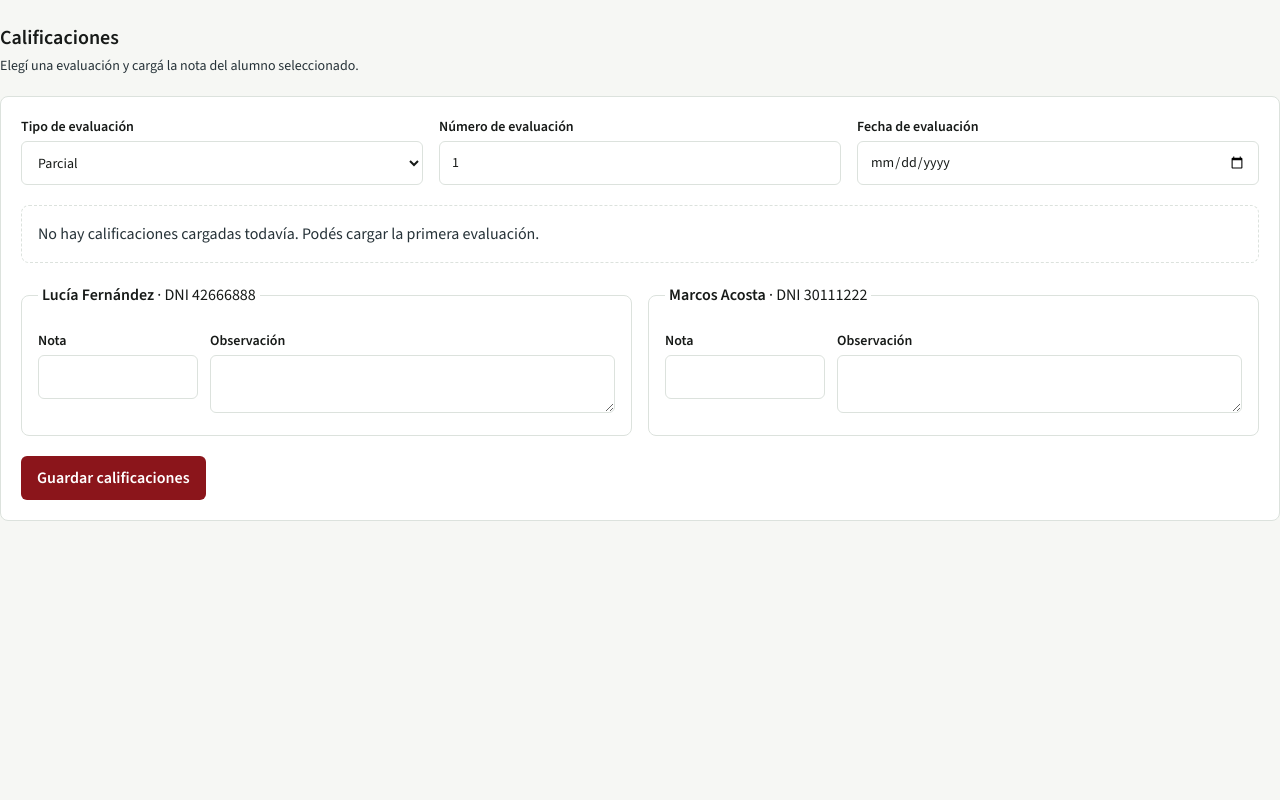
Test: GradesGrid › cancels a number change without losing a pending note, then discards it when confirmed
Type "7" into the number field labelled "Nota" below "Lucía Fernández". click: {"x": 118, "y": 377}
box: [38, 355, 198, 399]
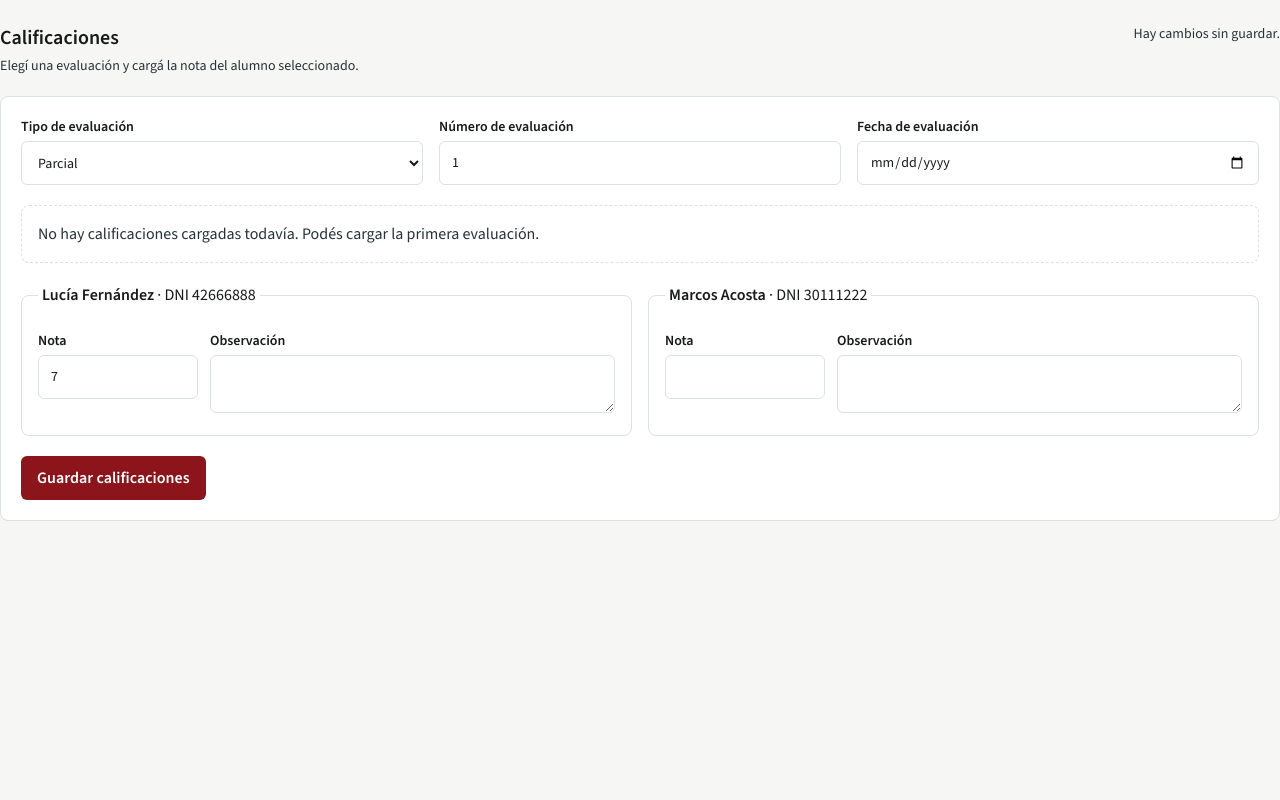
Replace the text in the number field labelled "Número de evaluación" with "2". click: {"x": 640, "y": 163}
box: [439, 141, 841, 185]
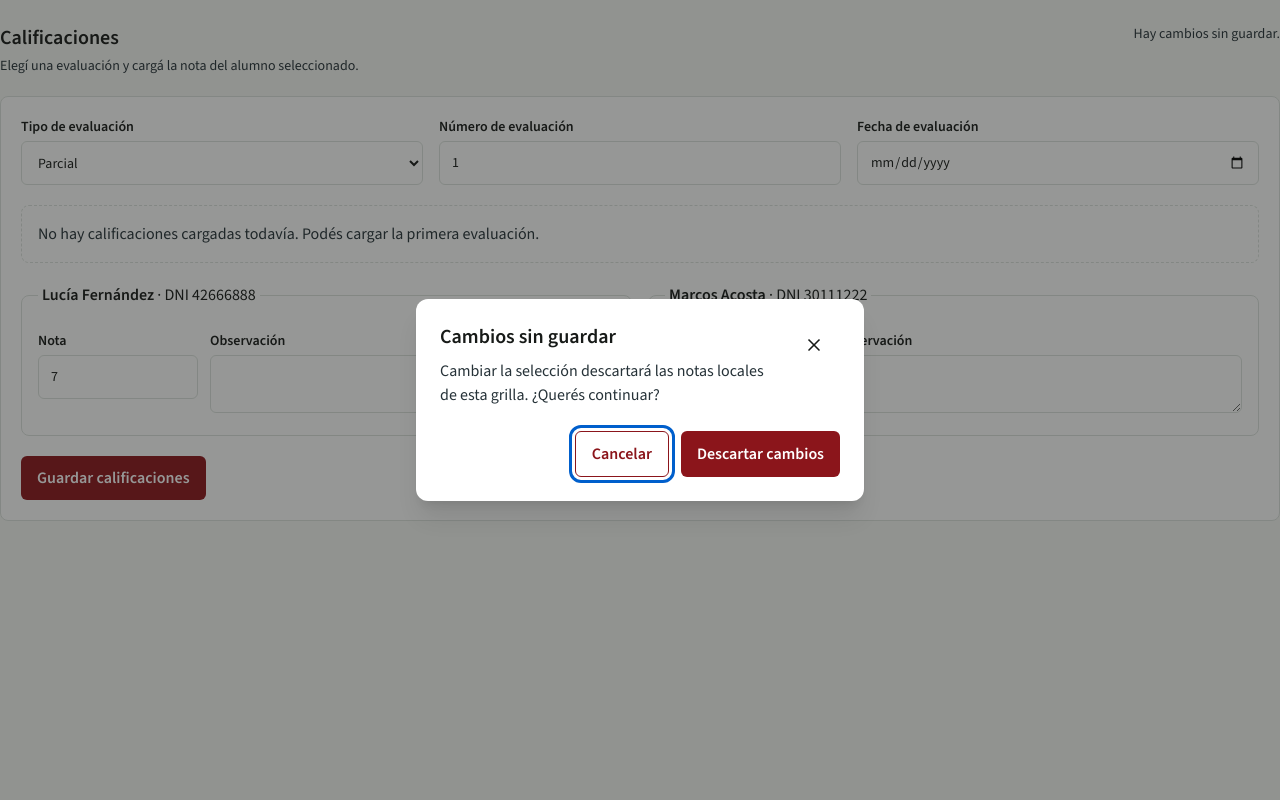
Result: the dialog "Cambios sin guardar" is shown at [416, 299, 864, 501]
Click the button "Cancelar". click: {"x": 622, "y": 454}
box: [575, 431, 669, 477]
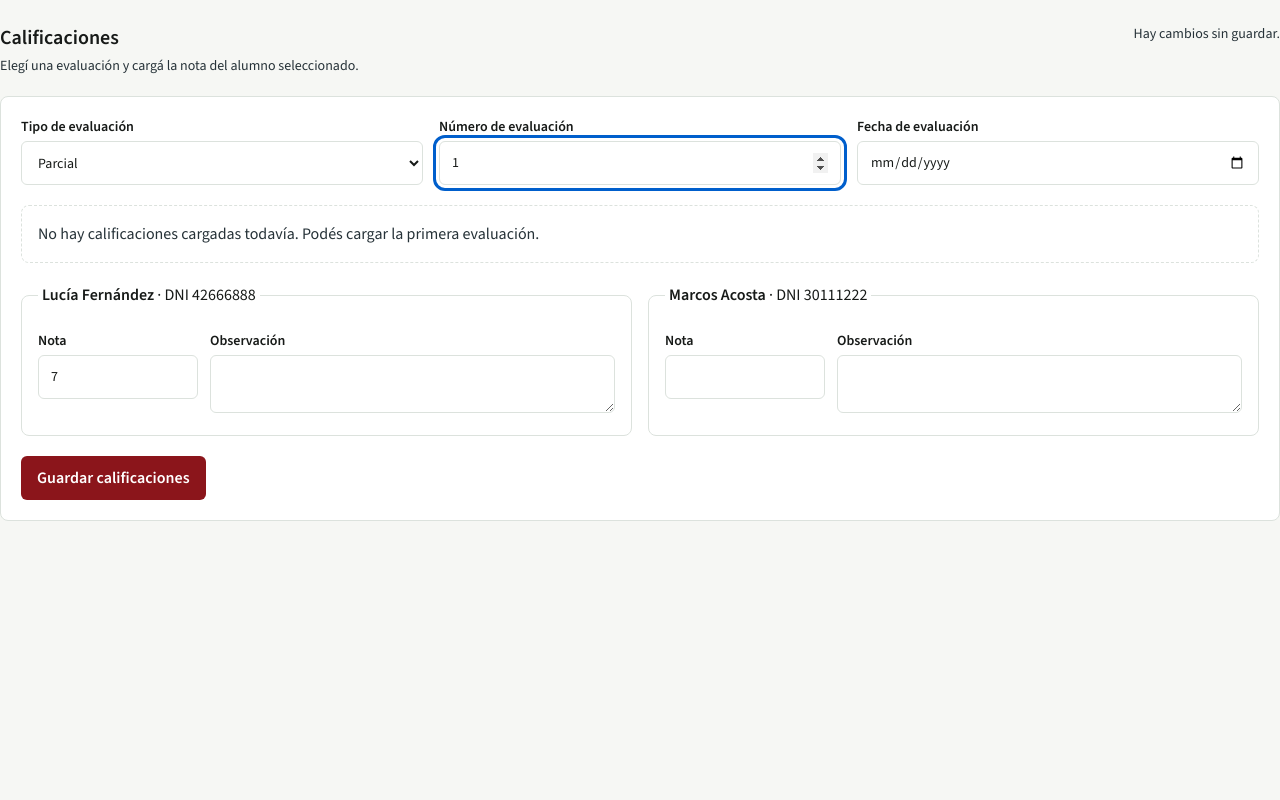
Replace the text in the number field labelled "Número de evaluación" with "2". click: {"x": 640, "y": 163}
box: [439, 141, 841, 185]
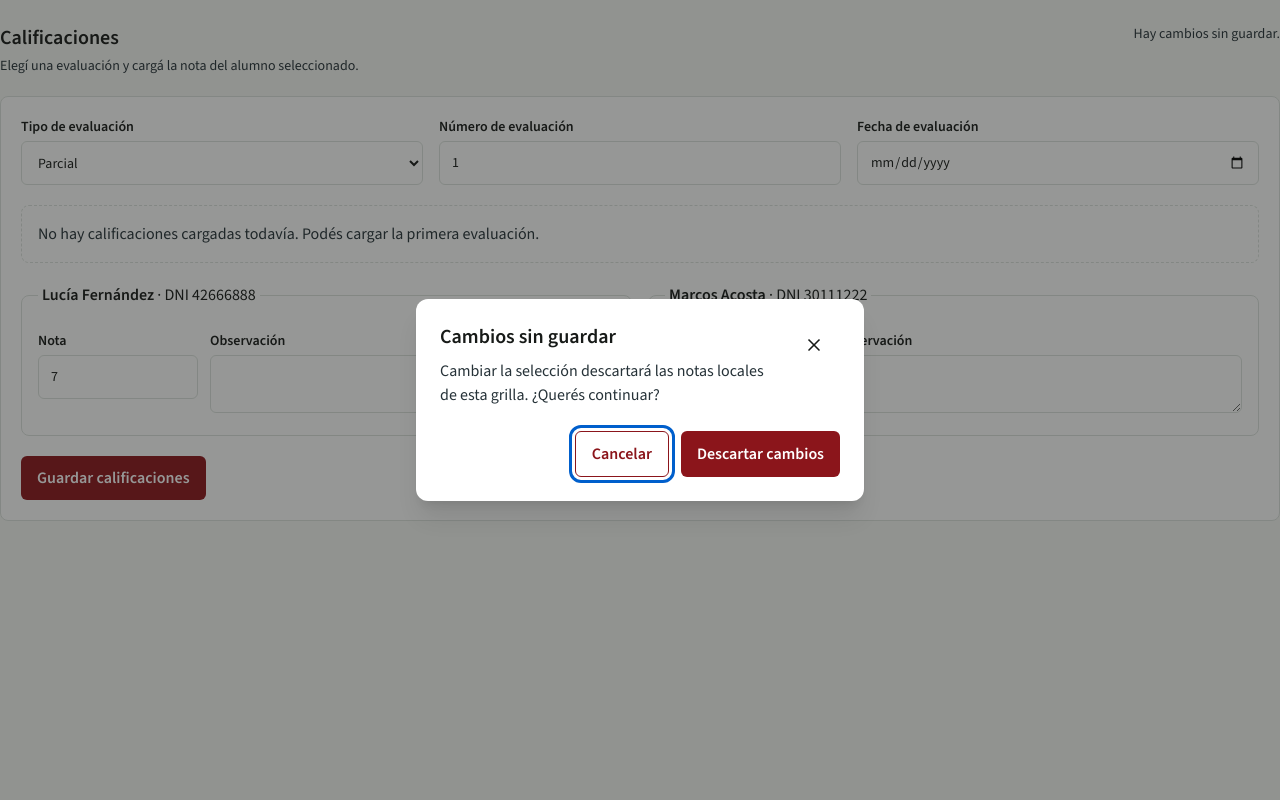
Click the button "Descartar cambios". click: {"x": 760, "y": 454}
box: [681, 431, 840, 477]
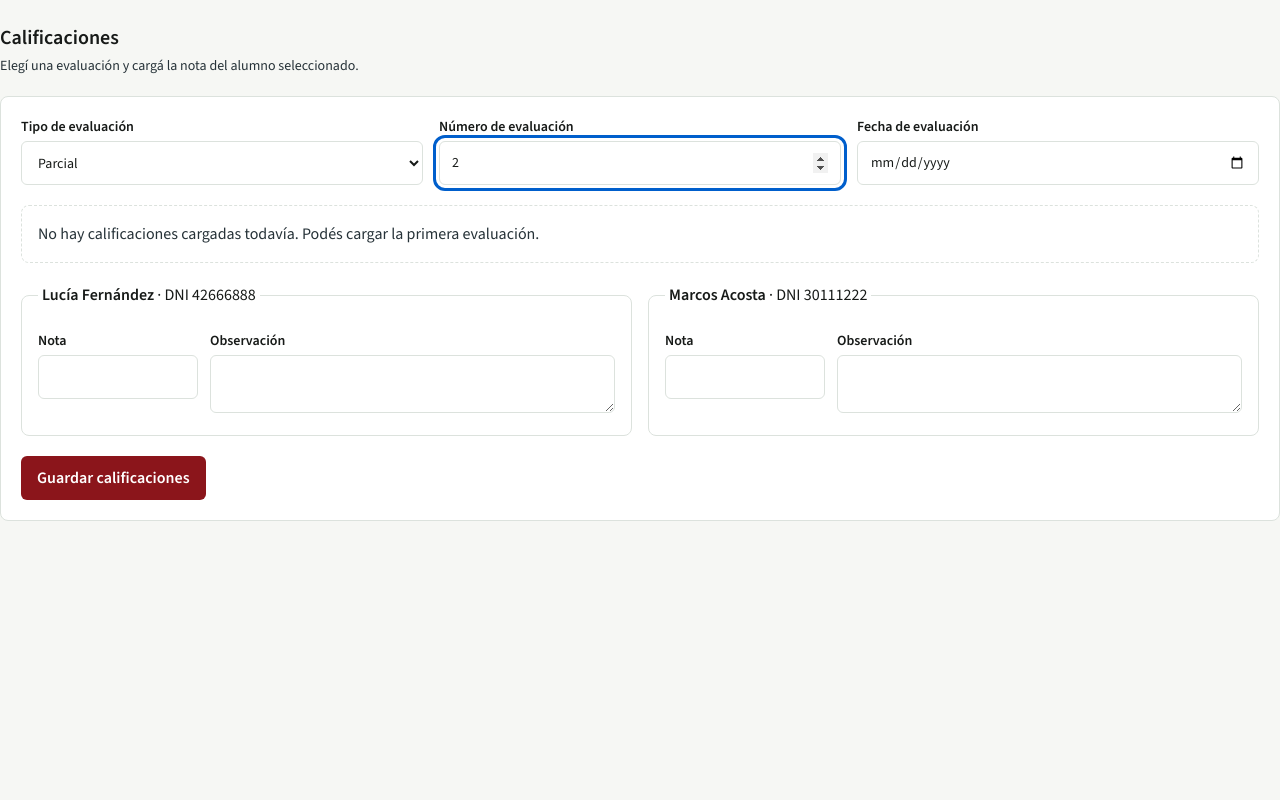
Result: the number field labelled "Nota" below "Lucía Fernández" is not empty at [38, 355, 198, 399]
